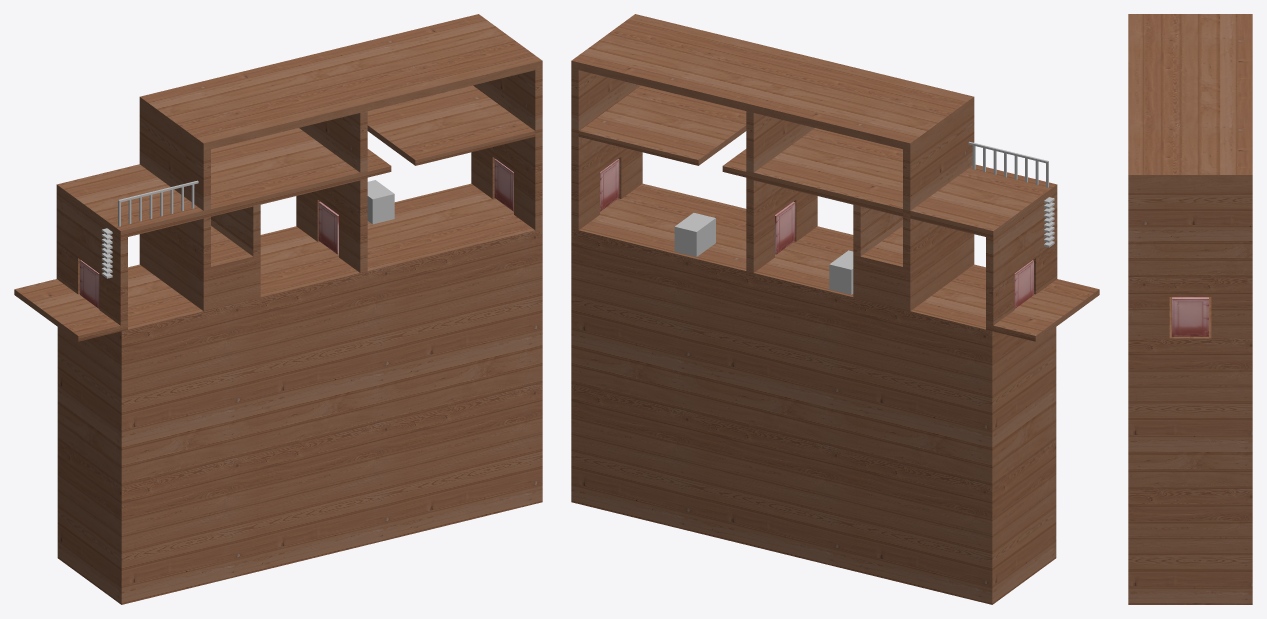
The model's file is demoworld1.FBX.
3 renders of one model, left to right at view 1: azimuth 30°, elevation 25°; view 2: azimuth 150°, elevation 25°; view 3: azimuth 270°, elevation 25°, orthographic. The views are drawn at different scales.
Visible parts, largest first — view 1: Box007, Line001, Object002, Line006, Object006, Line004, Box010, Line005, Box004, Box008, Box009; view 2: Box007, Line001, Object002, Line006, Object006, Line004, Box010, Line005, Box002, Box004, Box008, Box009; view 3: Box007, Line006, Object002, Box008.
Boxes of the visible parts, bbox=[...] form: Box007: bbox=[57, 183, 542, 604]; Line001: bbox=[14, 85, 535, 341]; Object002: bbox=[139, 68, 542, 310]; Line006: bbox=[139, 14, 542, 150]; Object006: bbox=[56, 192, 127, 325]; Line004: bbox=[211, 205, 260, 256]; Box010: bbox=[367, 180, 394, 224]; Line005: bbox=[118, 180, 198, 226]; Box004: bbox=[318, 201, 338, 254]; Box008: bbox=[494, 159, 513, 211]; Box009: bbox=[80, 260, 99, 308]; Box007: bbox=[571, 183, 1056, 604]; Line001: bbox=[578, 85, 1099, 341]; Object002: bbox=[571, 68, 974, 310]; Line006: bbox=[571, 14, 974, 150]; Object006: bbox=[986, 192, 1057, 325]; Line004: bbox=[853, 205, 902, 256]; Box010: bbox=[674, 213, 715, 256]; Line005: bbox=[968, 141, 1048, 187]; Box002: bbox=[829, 250, 853, 294]; Box004: bbox=[775, 201, 795, 254]; Box008: bbox=[600, 159, 619, 211]; Box009: bbox=[1014, 260, 1033, 308]; Box007: bbox=[1128, 297, 1252, 604]; Line006: bbox=[1128, 14, 1252, 182]; Object002: bbox=[1128, 182, 1252, 338]; Box008: bbox=[1172, 297, 1208, 336].
Size of the model in its own units: 252 by 229 by 60.
